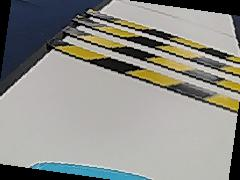bump: (47, 9, 239, 106)
